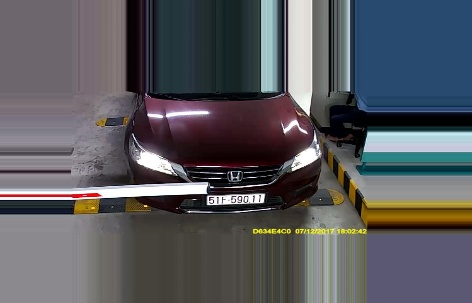plate: (206, 192, 265, 207)
